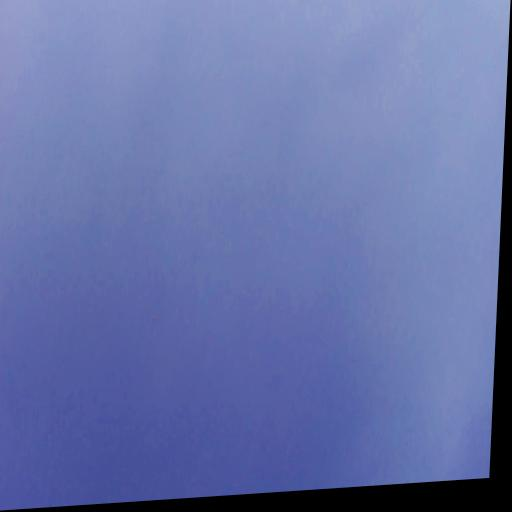drones: (152, 314, 158, 323)
